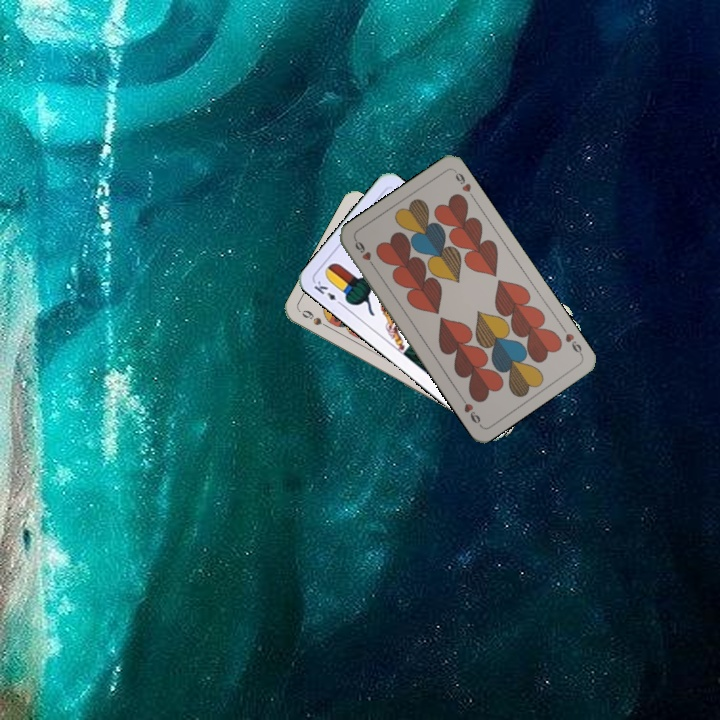EK: (310, 276, 346, 309)
H9: (351, 235, 378, 271), (561, 329, 585, 358)
S9: (298, 306, 334, 332)
